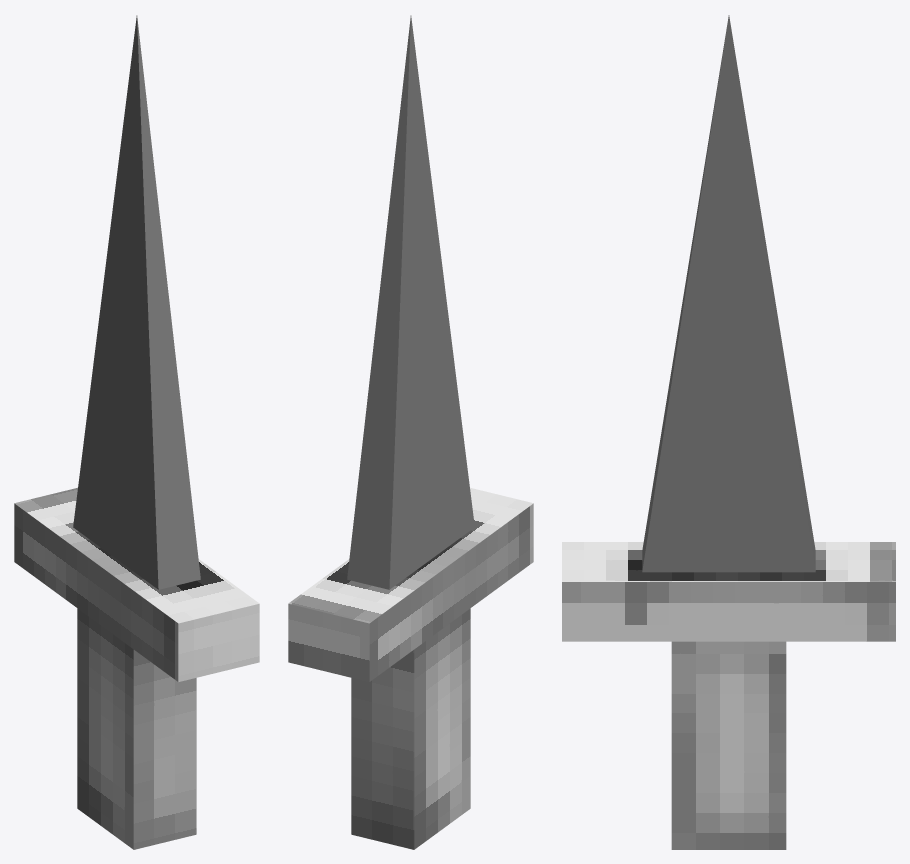
Rendered from Skeleton_Knife.fbx.
The picture shows the model from 3 angles, left to right: view 1: azimuth 30°, elevation 25°; view 2: azimuth 150°, elevation 25°; view 3: azimuth 270°, elevation 25°; orthographic projection.
Parts seen in each view (by area): view 1: Cube; view 2: Cube; view 3: Cube.
Boxes of the visible parts, x1,y1,x2,y2 form: Cube: (14,15,259,849); Cube: (288,15,533,849); Cube: (562,15,895,849).
Size of the model in its own units: 27.29 by 259 by 95.47.
